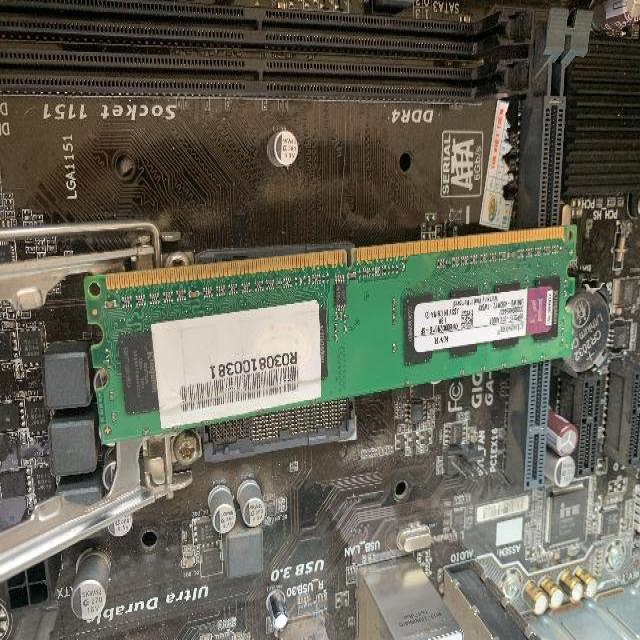Mainboard: (0, 2, 640, 640)
RAM: (81, 223, 578, 440)
